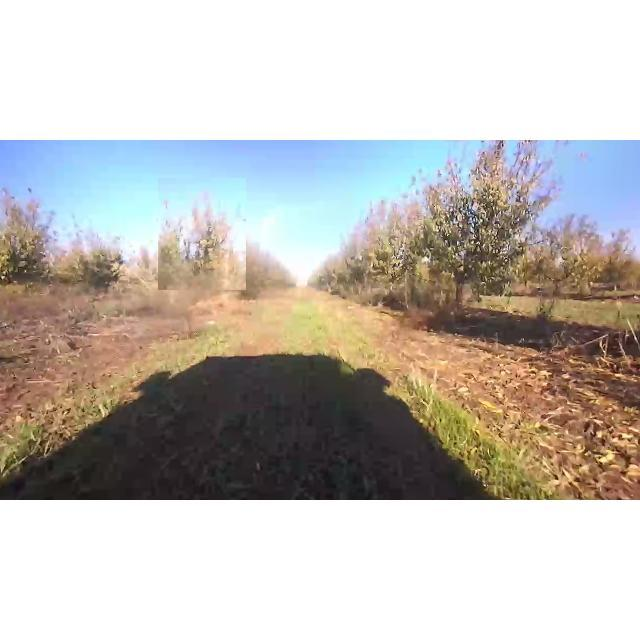tree: (410, 143, 580, 321), (158, 178, 246, 290)
